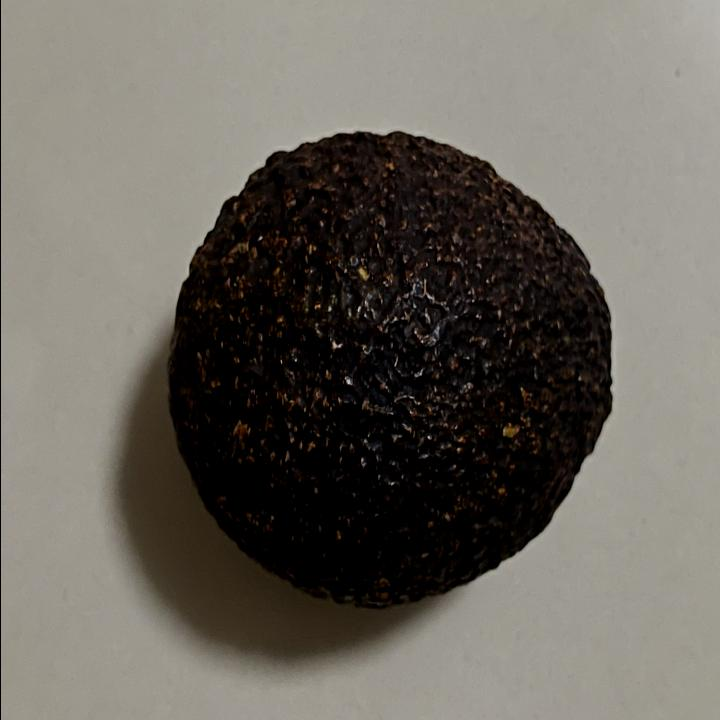Level3: (160, 120, 618, 620)
